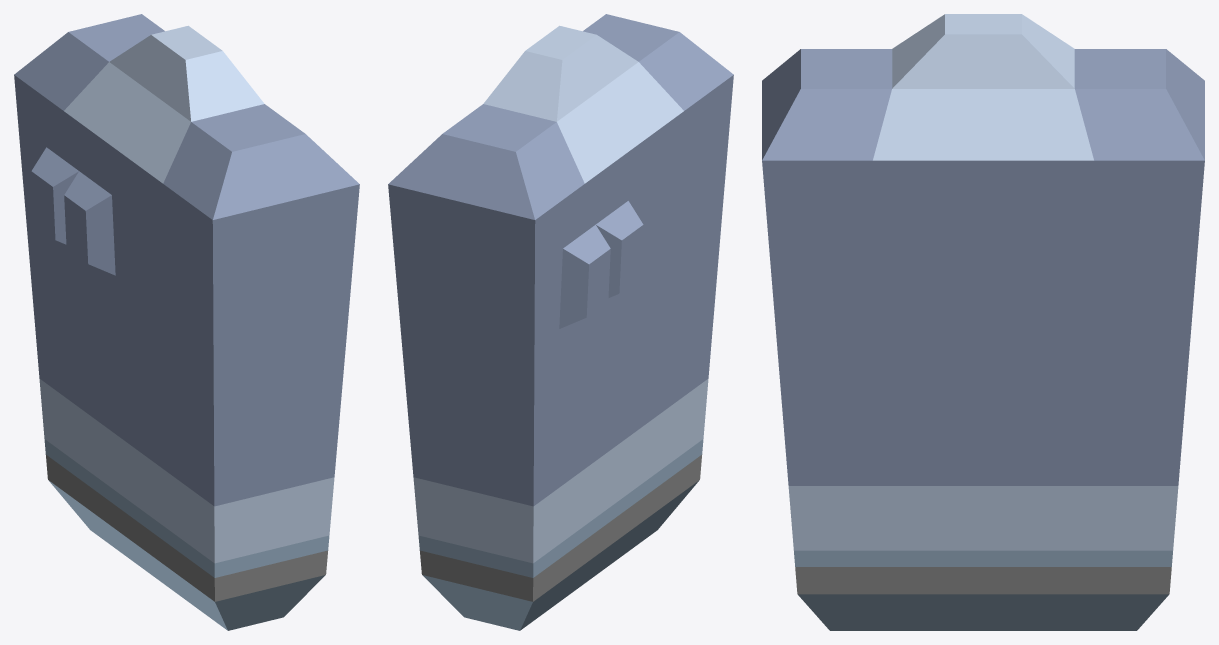
Rendered from GuardTorso.fbx.
3 renders of one model, left to right at view 1: azimuth 30°, elevation 25°; view 2: azimuth 150°, elevation 25°; view 3: azimuth 270°, elevation 25°, orthographic. The views are drawn at different scales.
Visible parts, largest first — view 1: GuardTorso; view 2: GuardTorso; view 3: GuardTorso.
Boxes of the visible parts, <box> form: GuardTorso: <box>14,14,359,630</box>; GuardTorso: <box>388,14,733,630</box>; GuardTorso: <box>762,14,1204,630</box>.
Size of the model in its own units: 0.2334 by 0.7157 by 0.4856.
